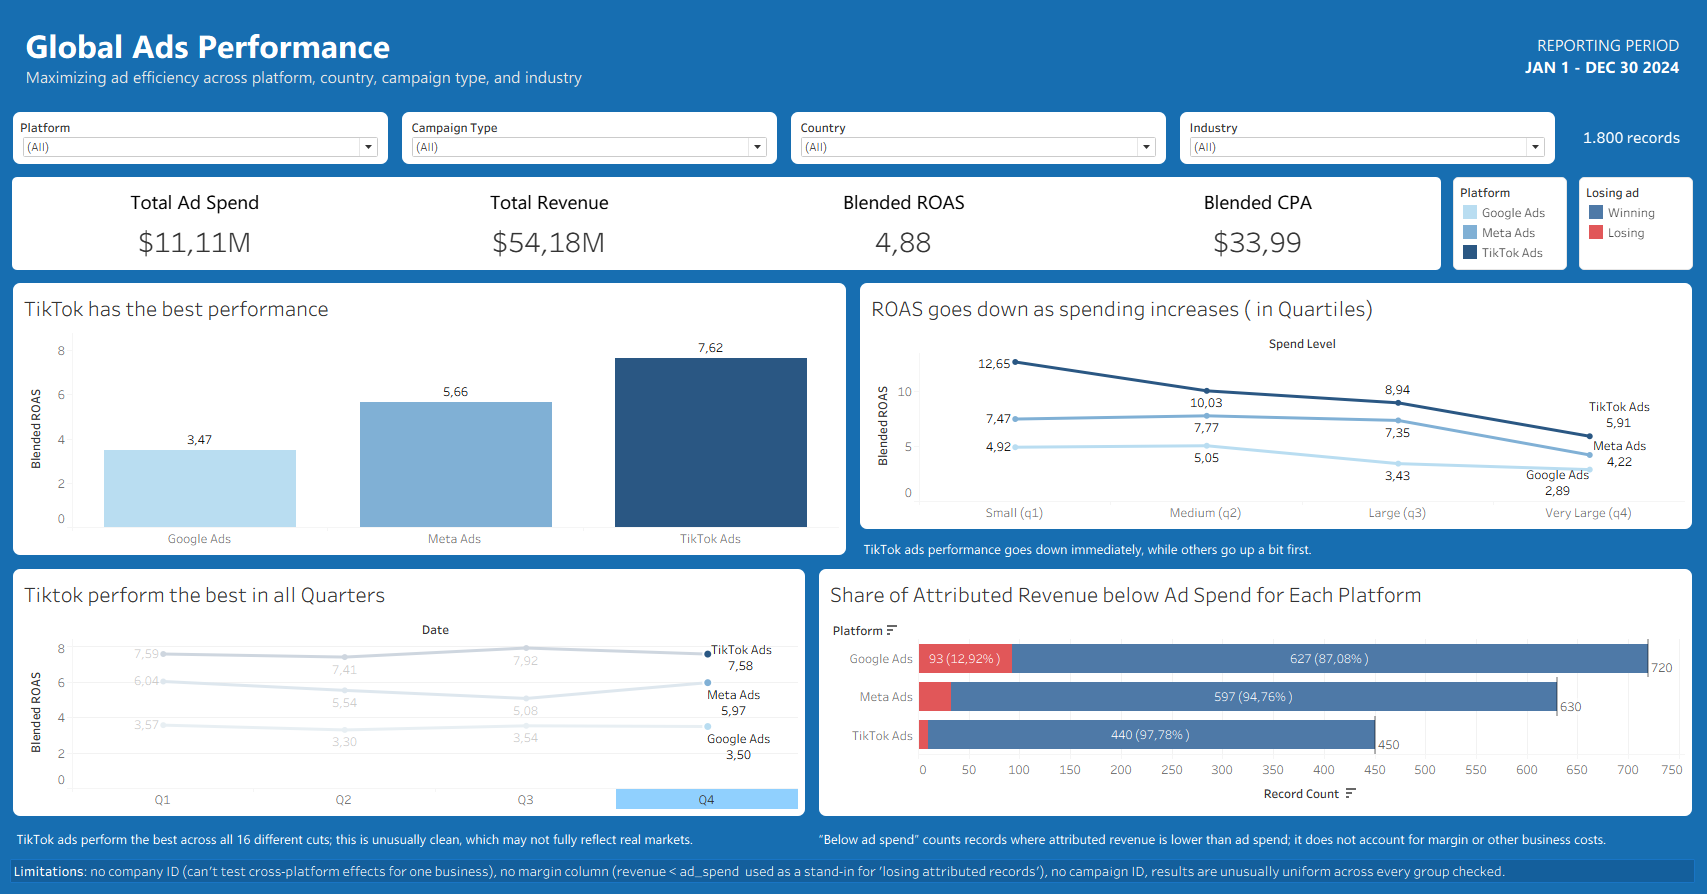

This screenshot's page, from the dashboard's own definition file:
{"tool":"tableau","page":{"name":"Dashboard","canvas":[1709,896],"ordinal":0},"visuals":[{"type":"text","box":[8,8,1497,97.9]},{"type":"text","box":[1505,8,196,97.9]},{"type":"worksheet","title":"Total Data","mark":"Automatic","box":[1563.6,105.9,137.4,66]},{"type":"filter","title":"Roas / Platform","param":"[federated.15urbxa0tavhwk1atlkdj114kx1m].[none:platform:nk]","box":[8,106,389,66]},{"type":"filter","title":"Roas / Platform","param":"[federated.15urbxa0tavhwk1atlkdj114kx1m].[none:campaign_type:nk]","box":[397,106,389,66]},{"type":"filter","title":"Roas / Platform","param":"[federated.15urbxa0tavhwk1atlkdj114kx1m].[none:country:nk]","box":[786,106,389,66]},{"type":"filter","title":"Roas / Platform","param":"[federated.15urbxa0tavhwk1atlkdj114kx1m].[none:industry:nk]","box":[1175,106,389,66]},{"type":"worksheet","title":"KPI","mark":"Automatic","box":[8,171.9,1440.6,105.1]},{"type":"legend","title":"Roas / Platform","param":"[federated.15urbxa0tavhwk1atlkdj114kx1m].[none:platform:nk]","box":[1448.6,171.9,126.2,105.1]},{"type":"legend","title":"Revenue below ad spend","param":"[federated.15urbxa0tavhwk1atlkdj114kx1m].[none:Calculation_1448376141266948:nk]","box":[1574.8,171.9,126.2,105.1]},{"type":"worksheet","title":"Roas / Platform","mark":"Automatic","rows":["Calculation_0680917286084608"],"cols":["platform"],"box":[8,277,847,286]},{"type":"worksheet","title":"Spending on Roas","mark":"Line","rows":["Calculation_0680917286084608"],"cols":["Calculation_1448376138690563"],"box":[855,277,846,260]},{"type":"text","box":[855,537,846,26]},{"type":"worksheet","title":"Quarterly Roas","mark":"Line","rows":["Calculation_0680917286084608"],"cols":["date"],"box":[8,562.9,806,261.1]},{"type":"worksheet","title":"Revenue below ad spend","mark":"Automatic","rows":["platform"],"cols":["global_ads_performance_dataset.csv_281FBB014F054FC7B95EC3AB0"],"box":[814,562.9,887,261]},{"type":"text","box":[814,823.9,887,32.1]},{"type":"text","box":[8,824,806,31.9]},{"type":"text","box":[8,855.9,1693,32.1]}]}

Visuals, with their boxes in screenshot pixels (x1, y1, x2, y2), scaled from the page's 1709x896 canvas onto the 1707x894 screenshot:
text: x1=8 y1=8 x2=1503 y2=106
text: x1=1503 y1=8 x2=1699 y2=106
"Total Data" worksheet: x1=1562 y1=106 x2=1699 y2=172
"Roas / Platform" filter: x1=8 y1=106 x2=397 y2=172
"Roas / Platform" filter: x1=397 y1=106 x2=785 y2=172
"Roas / Platform" filter: x1=785 y1=106 x2=1174 y2=172
"Roas / Platform" filter: x1=1174 y1=106 x2=1562 y2=172
"KPI" worksheet: x1=8 y1=172 x2=1447 y2=276
"Roas / Platform" legend: x1=1447 y1=172 x2=1573 y2=276
"Revenue below ad spend" legend: x1=1573 y1=172 x2=1699 y2=276
"Roas / Platform" worksheet: x1=8 y1=276 x2=854 y2=562
"Spending on Roas" worksheet (Line marks): x1=854 y1=276 x2=1699 y2=536
text: x1=854 y1=536 x2=1699 y2=562
"Quarterly Roas" worksheet (Line marks): x1=8 y1=562 x2=813 y2=822
"Revenue below ad spend" worksheet: x1=813 y1=562 x2=1699 y2=822
text: x1=813 y1=822 x2=1699 y2=854
text: x1=8 y1=822 x2=813 y2=854
text: x1=8 y1=854 x2=1699 y2=886
